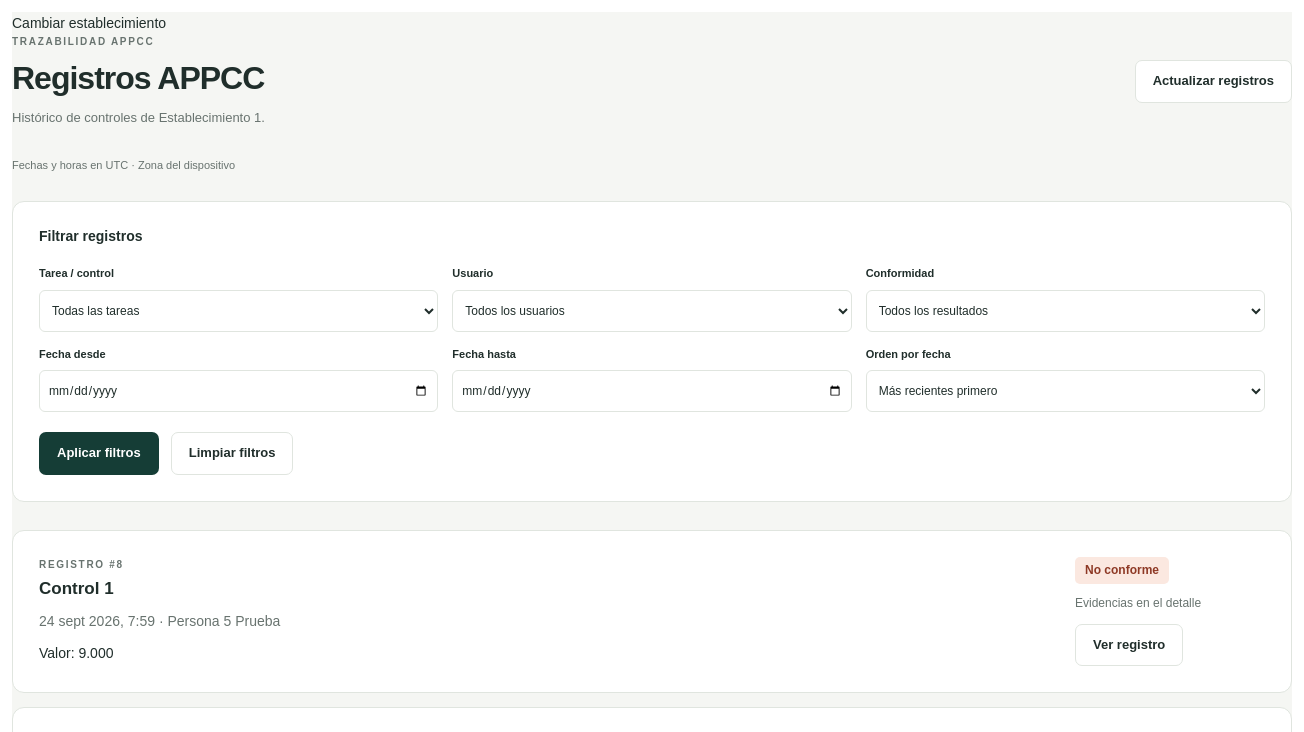
Scenario: rango de fechas inválido muestra validación sin consultar
Expected: the button with aria-label "Ver registro #8" is shown, 1075,624 -> 1183,666
In the date field labelled "Fecha desde": (239, 392) 39,370 -> 438,412, type "2026-09-25"
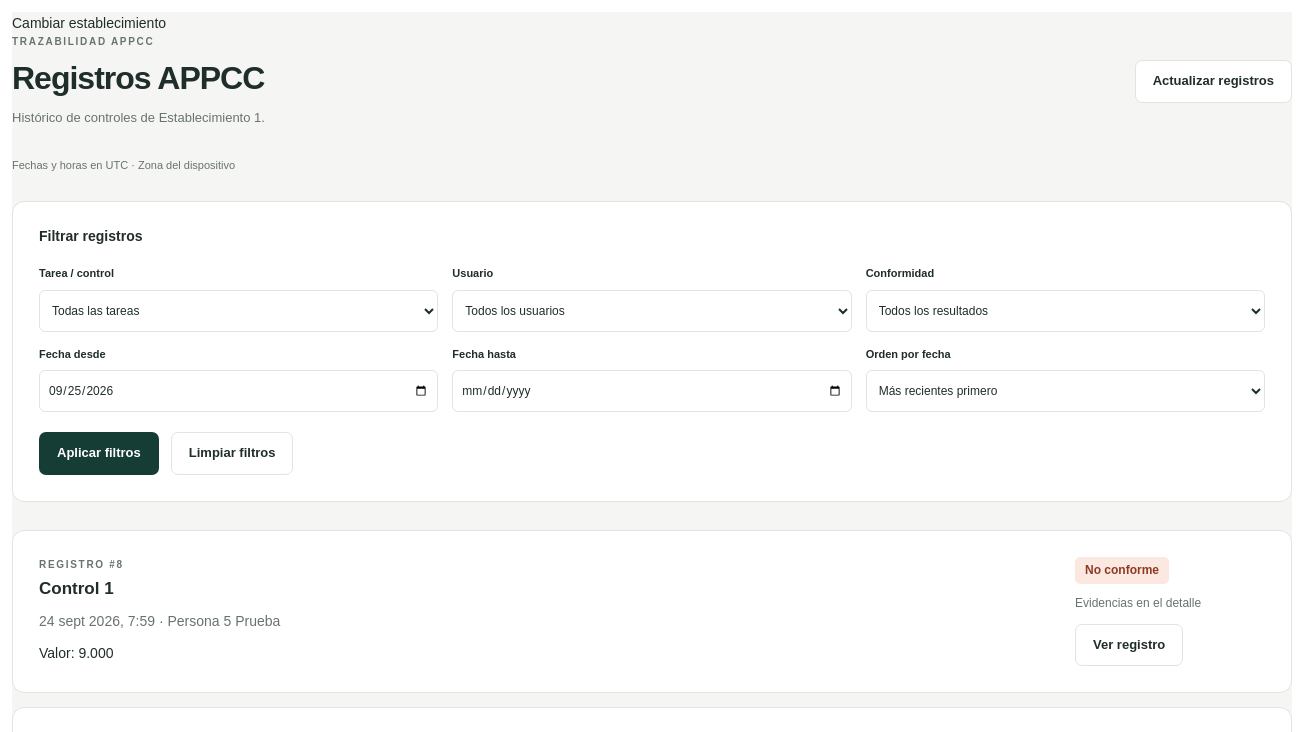
In the date field labelled "Fecha hasta": (652, 392) 452,370 -> 852,412, type "2026-09-01"
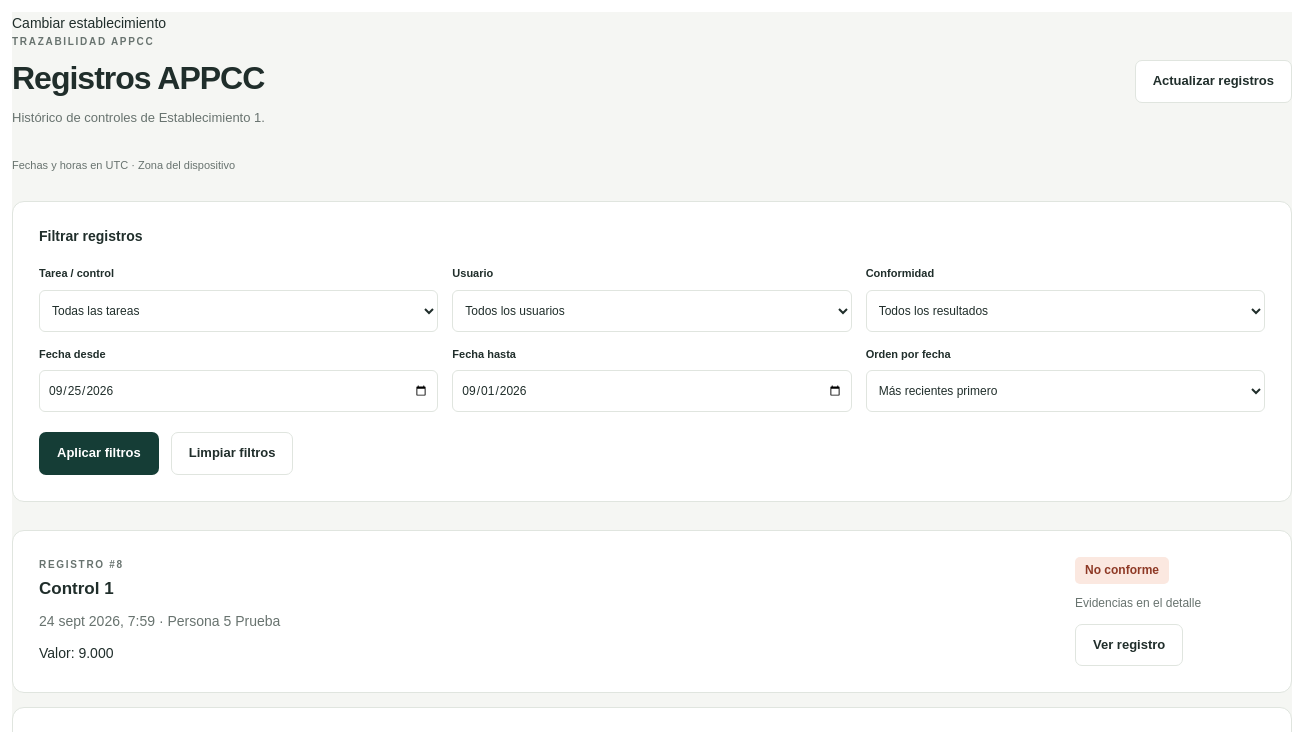
Click the button "Aplicar filtros": (99, 454) 39,432 -> 159,475
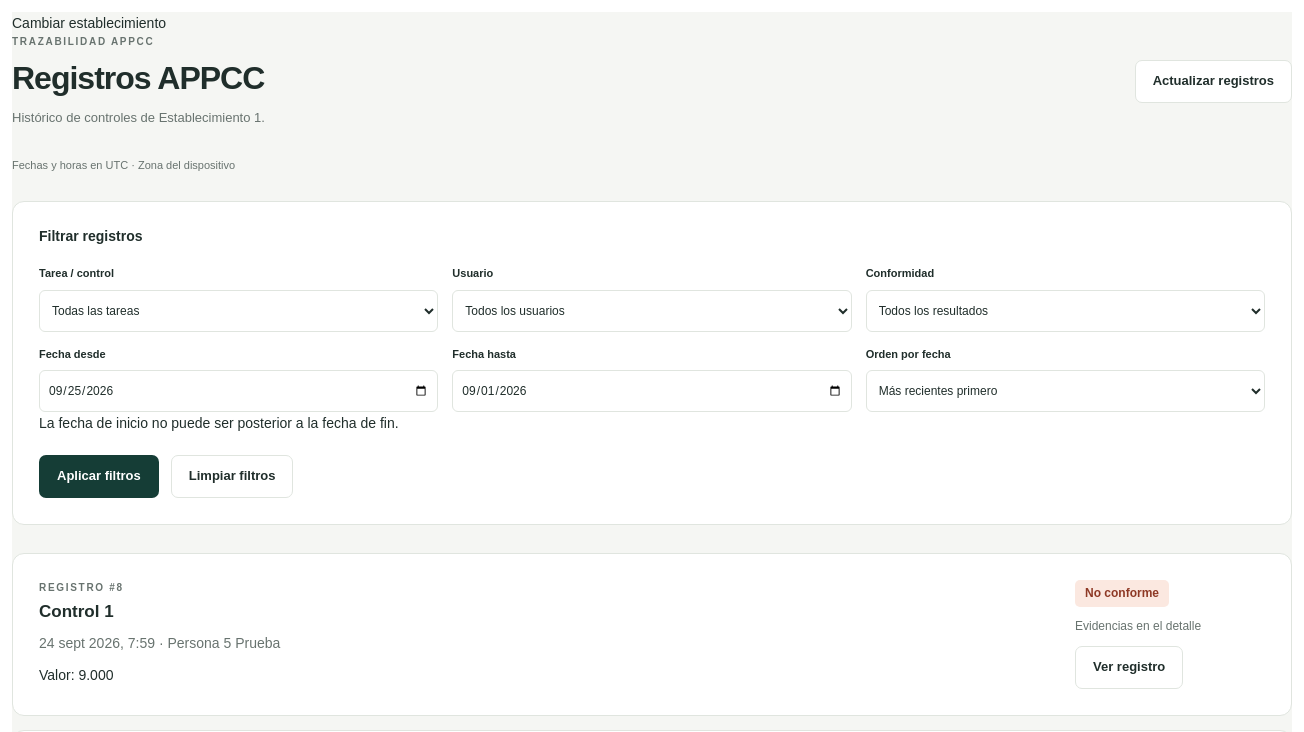
Expected: the message shows "inicio no puede ser posterior", 39,416 -> 399,432
